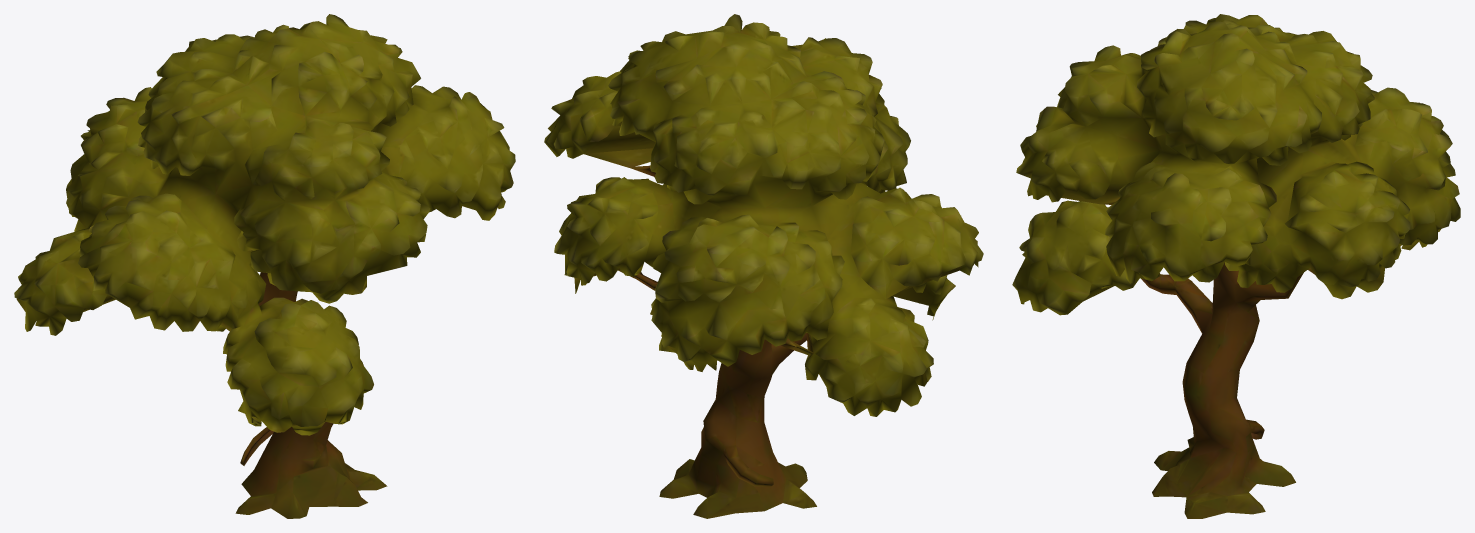
Rendered from oak_3.glb.
3 renders of one model, left to right at view 1: azimuth 30°, elevation 25°; view 2: azimuth 150°, elevation 25°; view 3: azimuth 270°, elevation 25°, orthographic.
Parts seen in each view (by area): view 1: tripo_node_79238162-a23c-4d0e-9b8c-ca4d011907bb; view 2: tripo_node_79238162-a23c-4d0e-9b8c-ca4d011907bb; view 3: tripo_node_79238162-a23c-4d0e-9b8c-ca4d011907bb.
Part boxes in pixels (x1=…): tripo_node_79238162-a23c-4d0e-9b8c-ca4d011907bb: x1=14, y1=14, x2=515, y2=518; tripo_node_79238162-a23c-4d0e-9b8c-ca4d011907bb: x1=544, y1=14, x2=983, y2=518; tripo_node_79238162-a23c-4d0e-9b8c-ca4d011907bb: x1=1012, y1=14, x2=1460, y2=518.
Size of the model in its own units: 9.14 by 9.4 by 8.33.
1 material, 1 textured.
